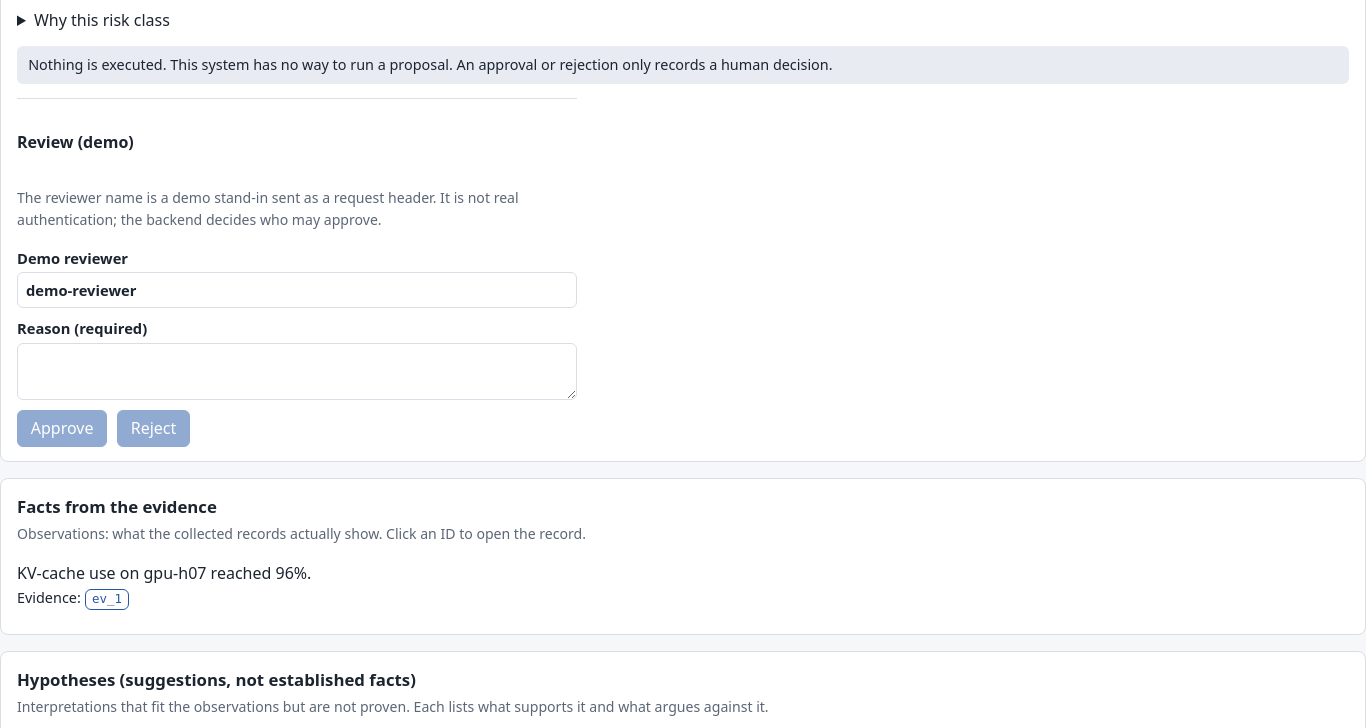
Test: RunPage: proposal and approval › tells the reviewer when the proposal changed underneath them
This screenshot has width=1366, height=728.
(page scrolled)
Step 1. Type "ok" into the text box labelled "Reason (required)" → (297, 371), box 17,343 -> 577,400
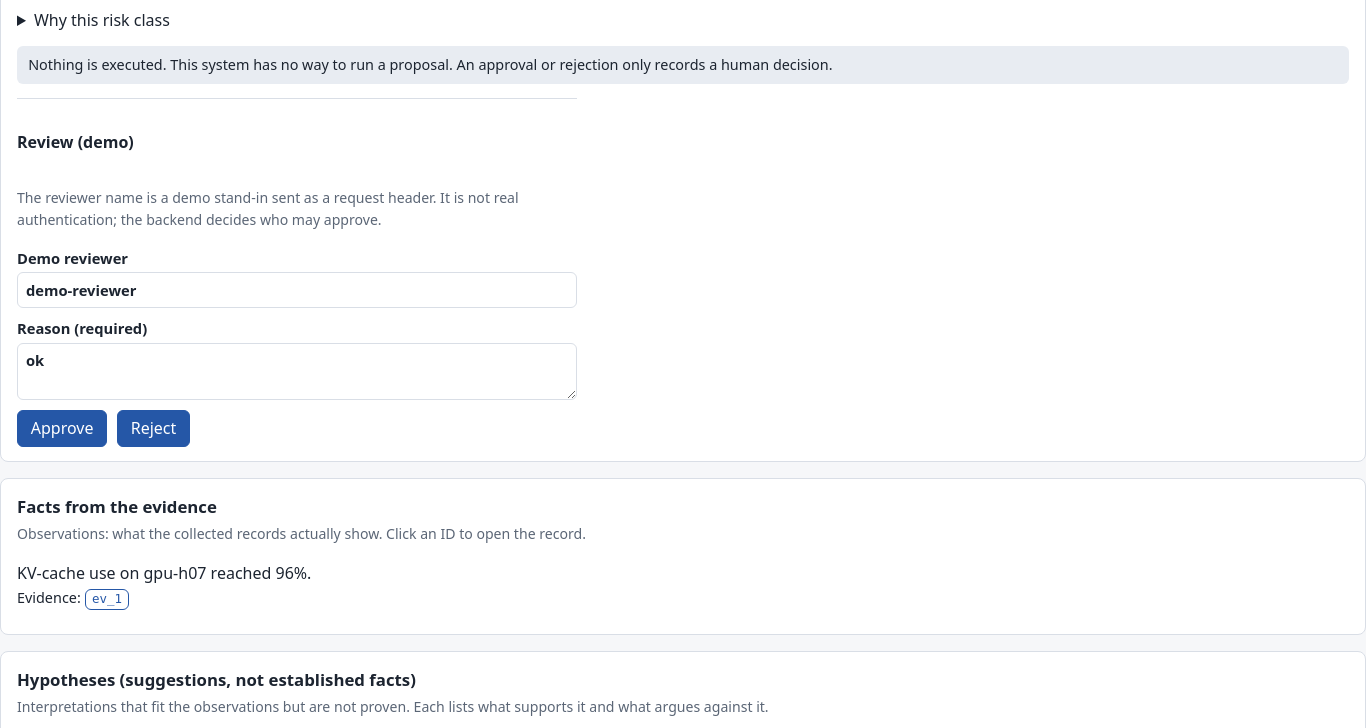
Step 2. Click the button "Approve" → click(62, 428), box 17,410 -> 107,447
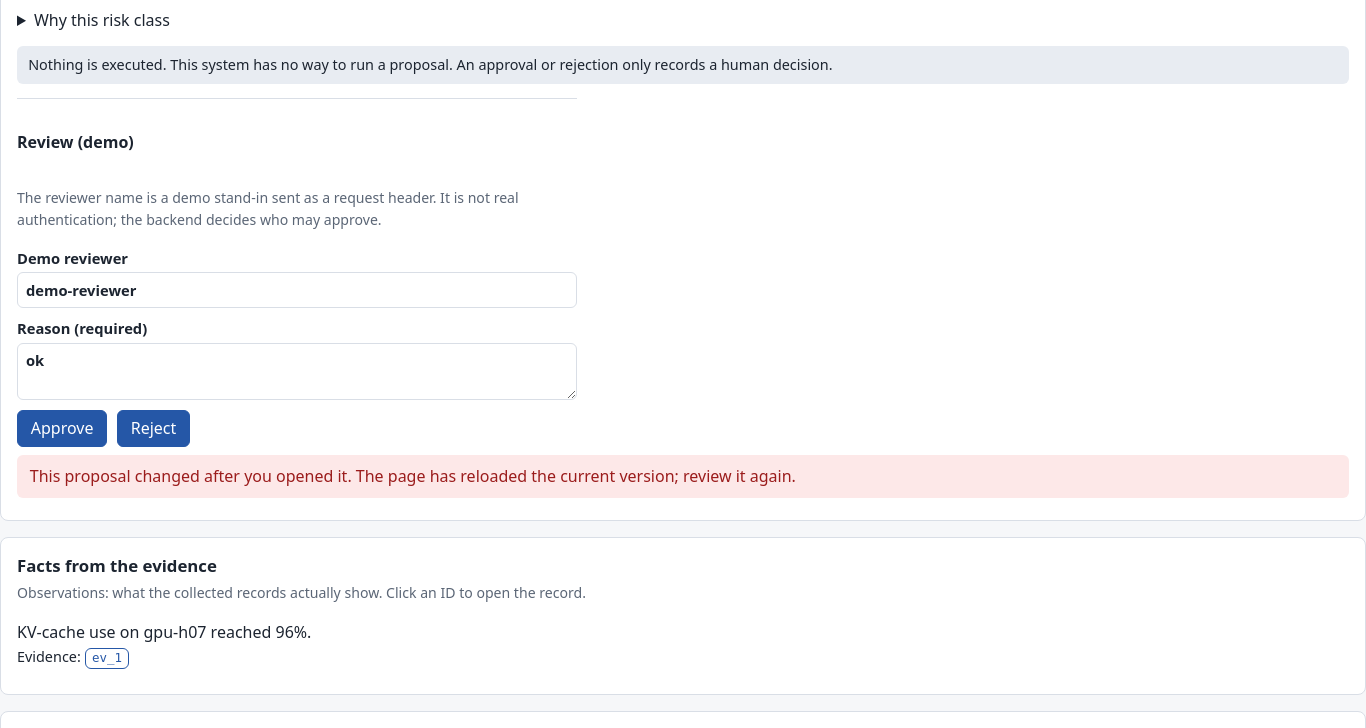
Expected: the text "changed after you opened it" is shown, 30,465 -> 796,487
